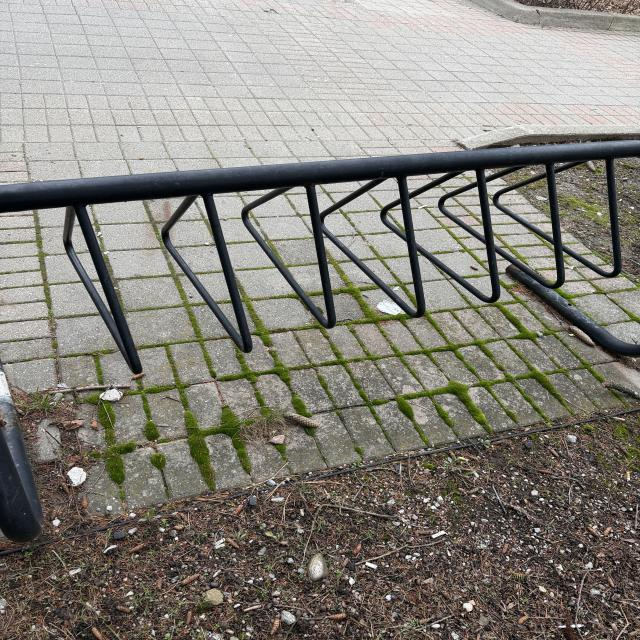Bicycle Rack: (0, 136, 640, 537)
